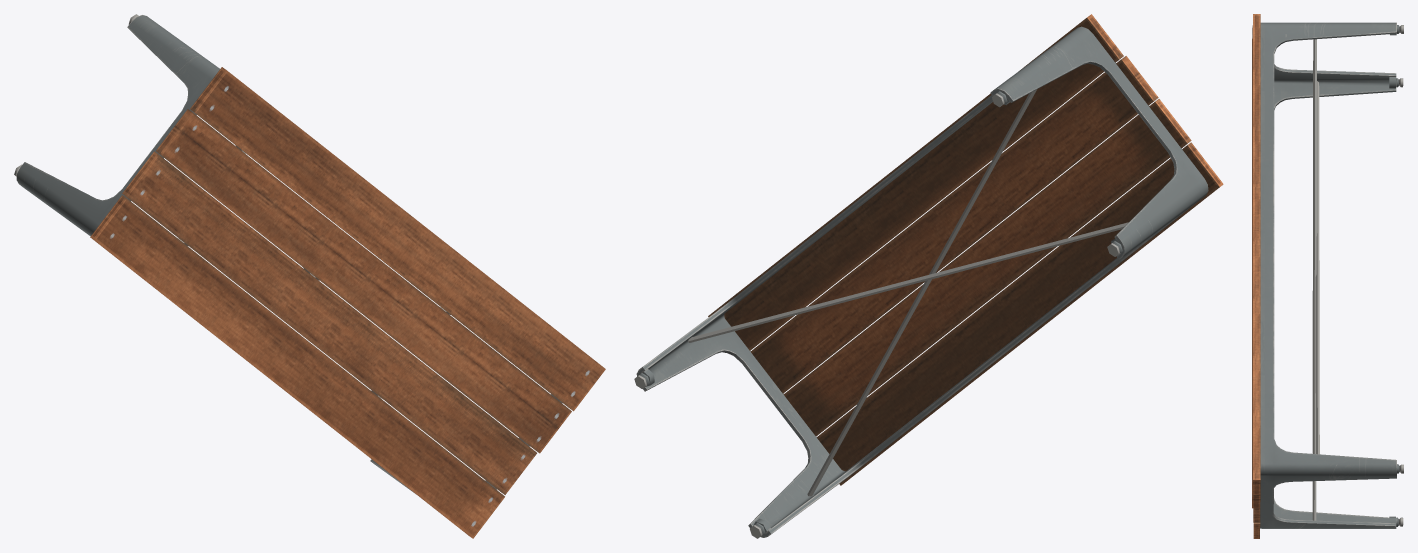
The model's file is bench2.obj.
3 views of the same model, side by side, from view 1: azimuth 30°, elevation 25°; view 2: azimuth 150°, elevation 25°; view 3: azimuth 270°, elevation 25° (orthographic). The views are drawn at different scales.
Parts seen in each view (by area): view 1: eb_hipster_bench_01; view 2: eb_hipster_bench_01; view 3: eb_hipster_bench_01.
Boxes of the visible parts, <box> form: eb_hipster_bench_01: <box>14,14,605,538</box>; eb_hipster_bench_01: <box>634,14,1223,538</box>; eb_hipster_bench_01: <box>1252,14,1403,538</box>.
Bounding box in the file's own units: 0.7671 × 0.7581 × 0.2438.
